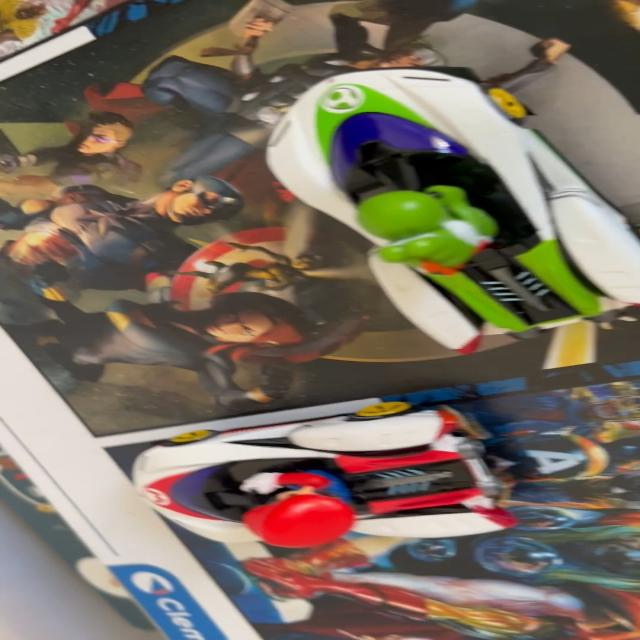mario: (106, 392, 548, 573)
yoshi: (239, 46, 640, 369)
